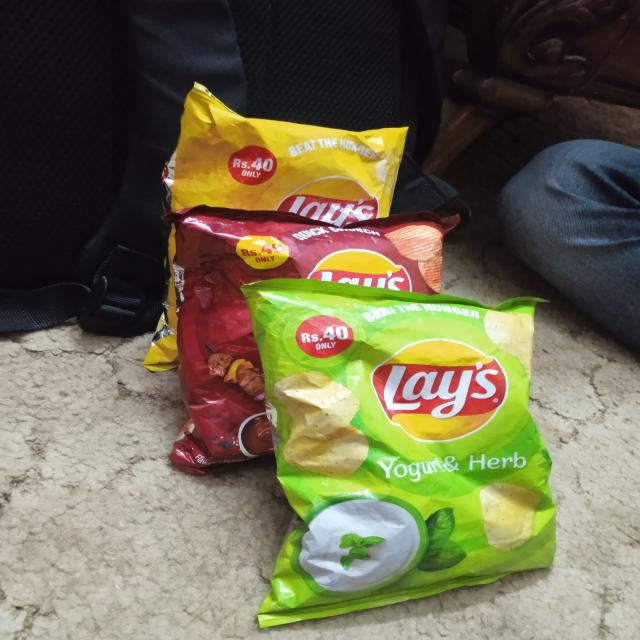Plastic: (238, 274, 576, 640), (160, 92, 417, 224), (175, 212, 470, 278)
